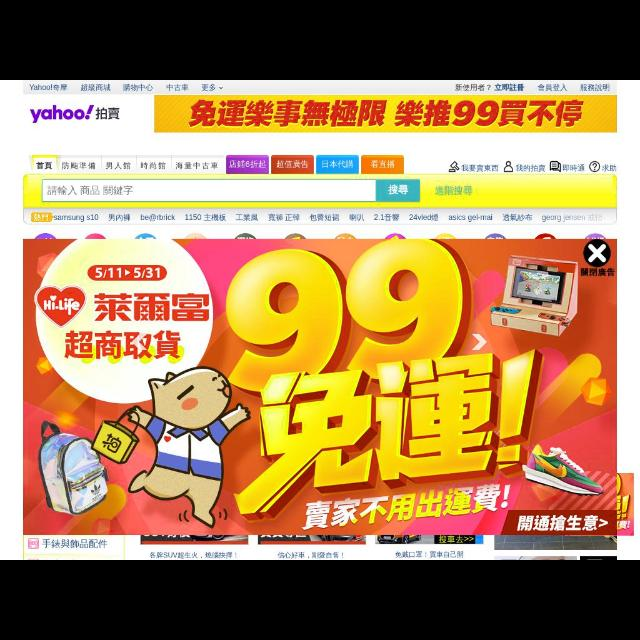button: (582, 240, 612, 268)
icon: (588, 244, 606, 262), (448, 162, 459, 174), (504, 161, 514, 173), (549, 162, 561, 172), (590, 162, 600, 172), (218, 85, 224, 91)
iframe: (22, 239, 618, 535), (155, 96, 618, 132)
image: (30, 105, 94, 123), (28, 539, 40, 549)
input: (42, 180, 374, 202)
multitab: (32, 212, 606, 224), (31, 156, 226, 174)
spinner: (201, 84, 225, 92)
text: (46, 185, 134, 197), (42, 538, 108, 550), (149, 551, 237, 559), (32, 212, 100, 222), (541, 213, 605, 223), (276, 551, 346, 559), (395, 550, 465, 558), (229, 158, 267, 170), (435, 186, 473, 197), (94, 107, 120, 121), (175, 162, 219, 170), (449, 214, 493, 222), (276, 160, 310, 170), (185, 214, 227, 222), (29, 84, 69, 92), (494, 83, 526, 93), (322, 160, 354, 170), (268, 212, 300, 222), (502, 213, 534, 223), (454, 84, 492, 92), (461, 164, 499, 172), (515, 164, 547, 173), (61, 162, 97, 170), (140, 214, 176, 222), (387, 184, 409, 196), (105, 161, 131, 171), (140, 161, 166, 171), (80, 84, 112, 92), (122, 84, 154, 92), (408, 214, 439, 222), (538, 84, 568, 92), (580, 84, 610, 92), (370, 159, 394, 169), (108, 213, 132, 223), (310, 214, 340, 222), (372, 214, 400, 222), (166, 84, 190, 92), (562, 164, 586, 172), (236, 213, 258, 221), (36, 162, 54, 170), (601, 164, 617, 172), (202, 84, 216, 92), (350, 214, 364, 222)
textbutton: (376, 180, 420, 202), (272, 154, 314, 173), (227, 156, 270, 174), (316, 156, 359, 174), (362, 155, 404, 173)
